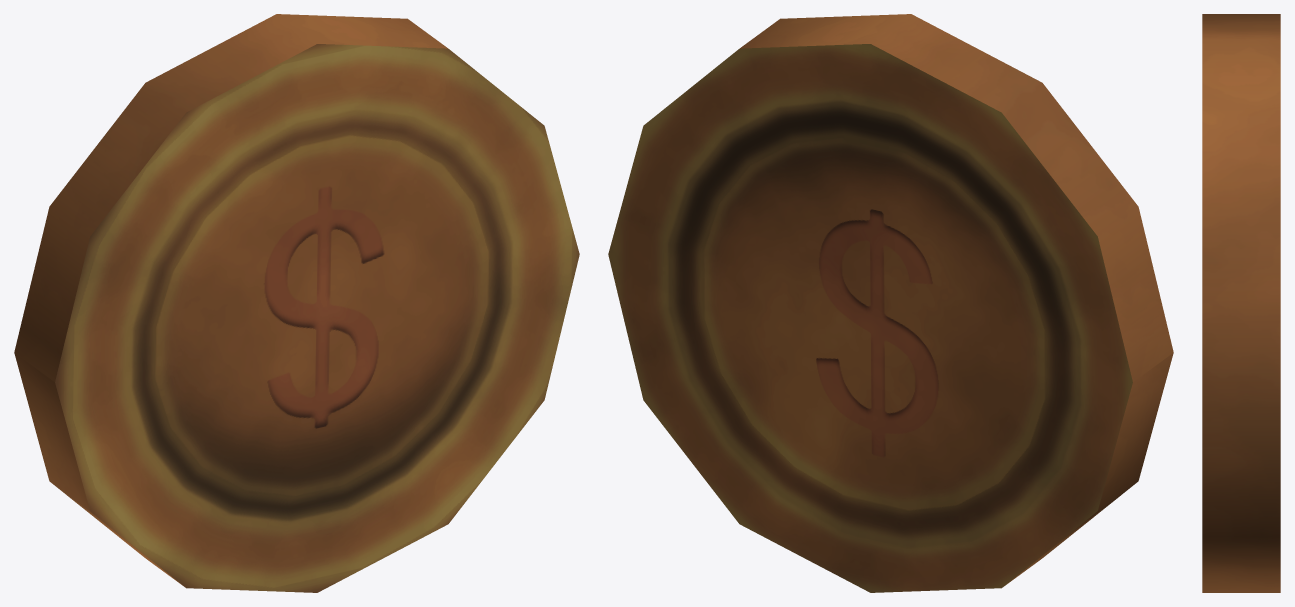
Rendered from CoinCopper_LOD1.fbx.
3 views of the same model, side by side, from view 1: azimuth 30°, elevation 25°; view 2: azimuth 150°, elevation 25°; view 3: azimuth 270°, elevation 25° (orthographic). The views are drawn at different scales.
Parts seen in each view (by area): view 1: Mesh; view 2: Mesh; view 3: Mesh.
Part boxes in pixels (x1,y1,x2,y2): Mesh: (14,14,579,592); Mesh: (608,14,1173,592); Mesh: (1202,14,1280,592).
Bounding box in the file's own units: 41.6 × 41.6 × 5.6.
